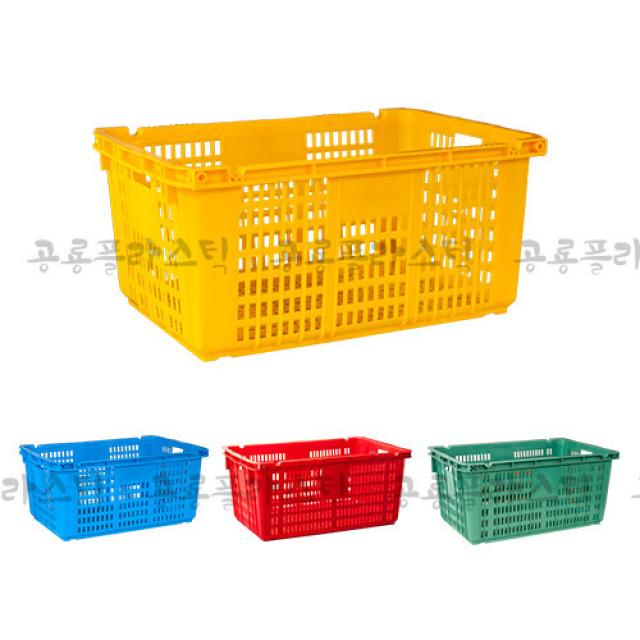basket: (93, 99, 558, 366), (225, 424, 421, 546), (432, 431, 628, 548), (20, 432, 215, 544)
